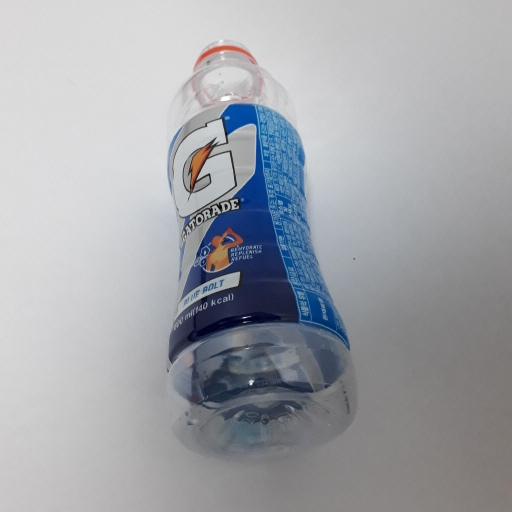Plastic_0: (159, 36, 360, 460)
